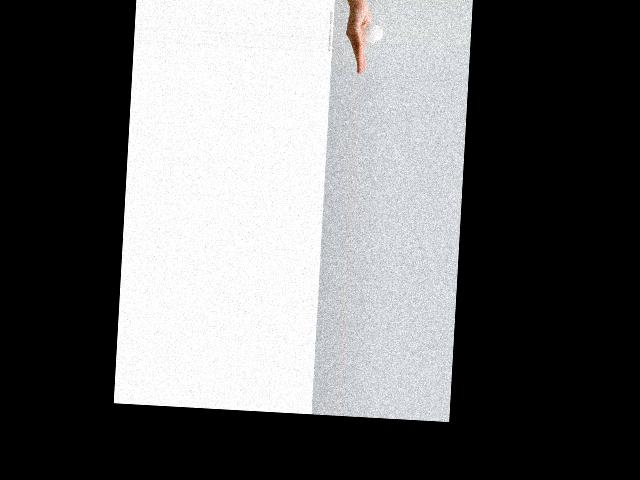egg: (359, 23, 383, 43)
